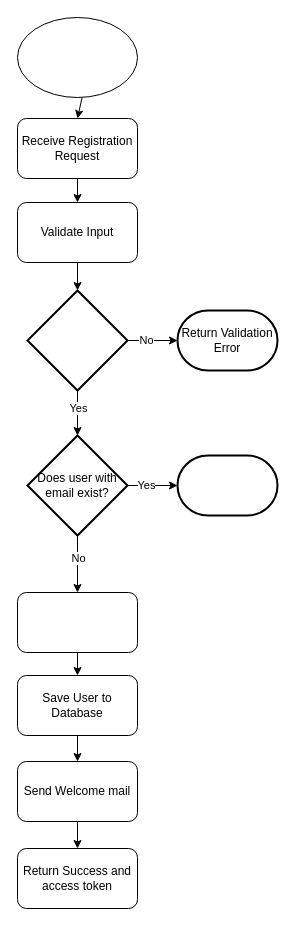
Some shapes in this 296 by 926 pixel diagram are drawn without their labels. The centre of each missing label's shape, as x and y in pixels:
"Hash Password" goes at (x=77, y=622).
"Is Input Valid?" goes at (x=77, y=340).
"Return User Already Exist error" goes at (x=227, y=485).
"User Registration" goes at (x=77, y=57).
